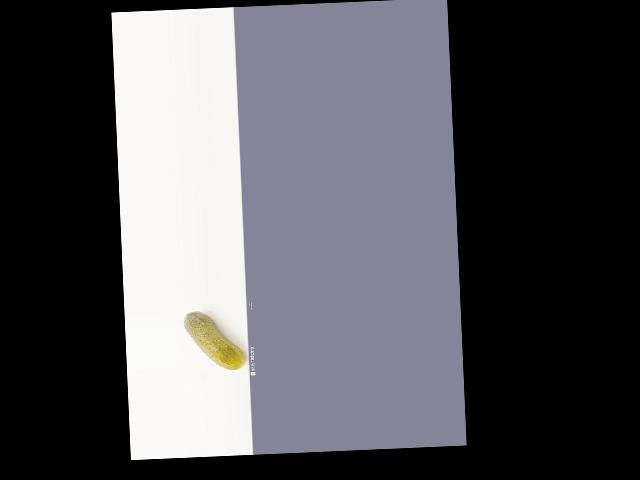cucumber: (184, 308, 246, 372)
